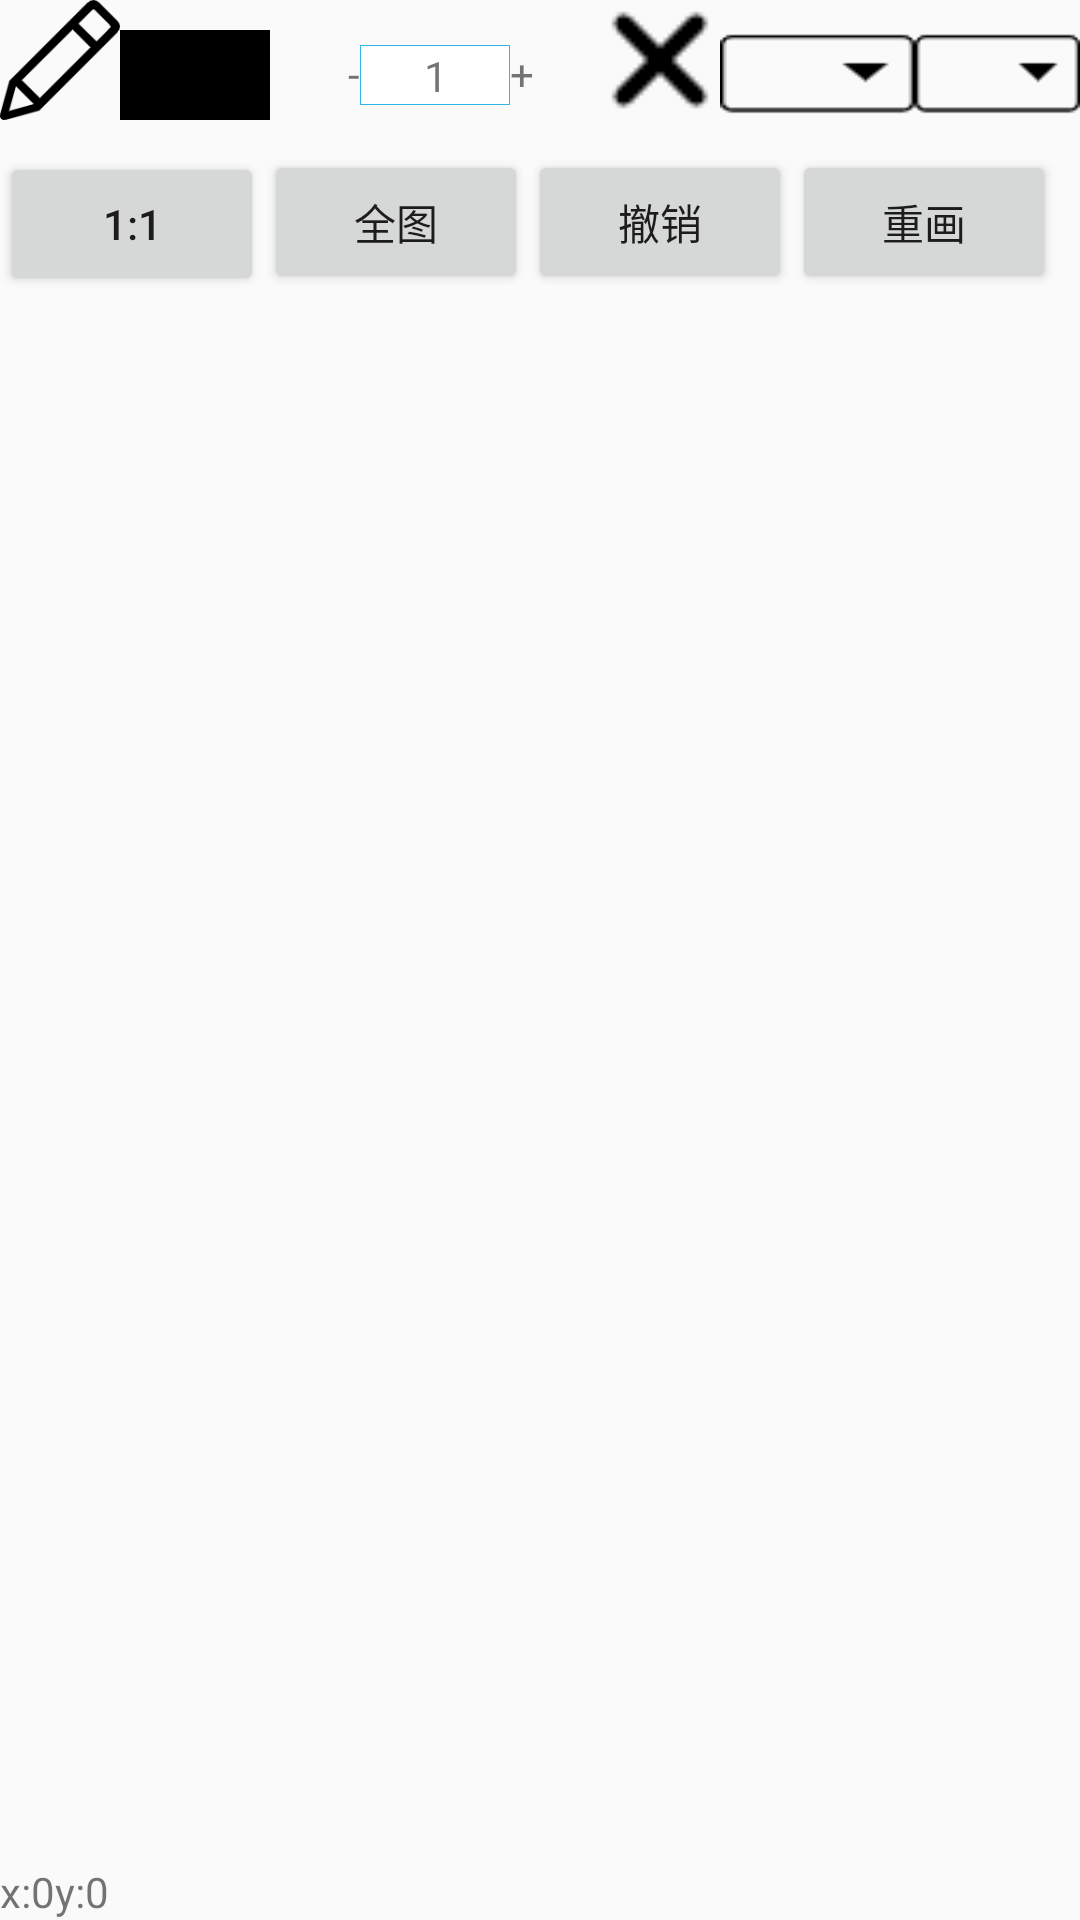

Where icons sit on this 1080 x 1920 app screen, as bbox=(x1, y1, x2, y2):
pen: bbox=(0, 0, 120, 120)
